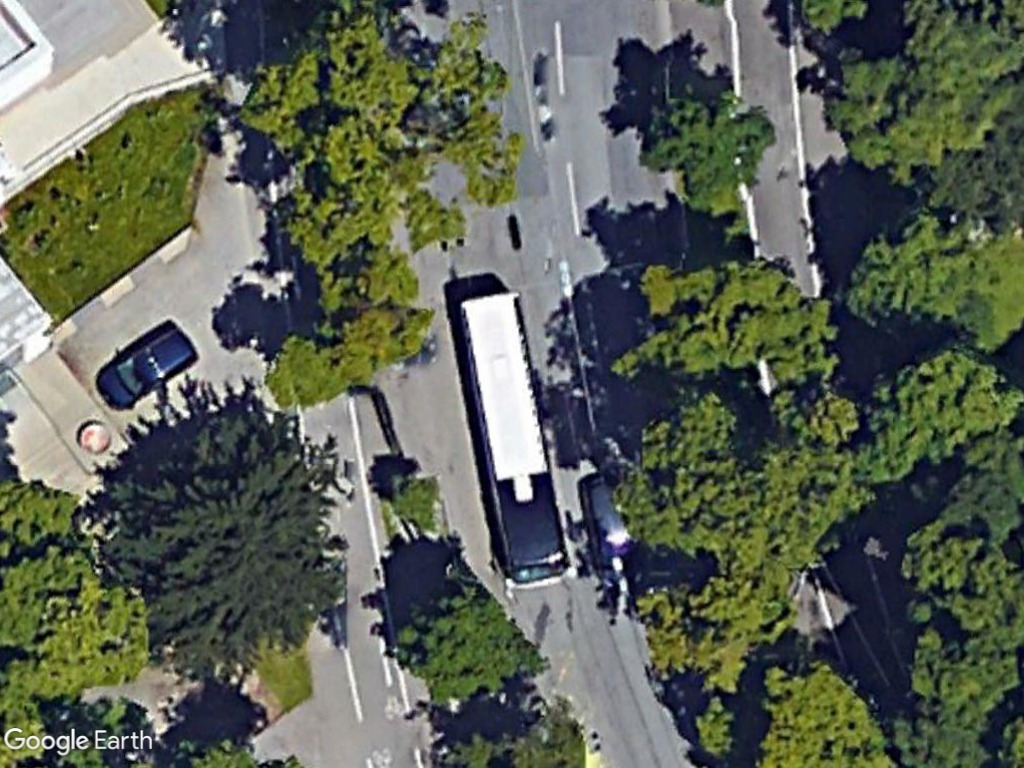bus: (451, 281, 584, 597)
car: (92, 318, 210, 414)
